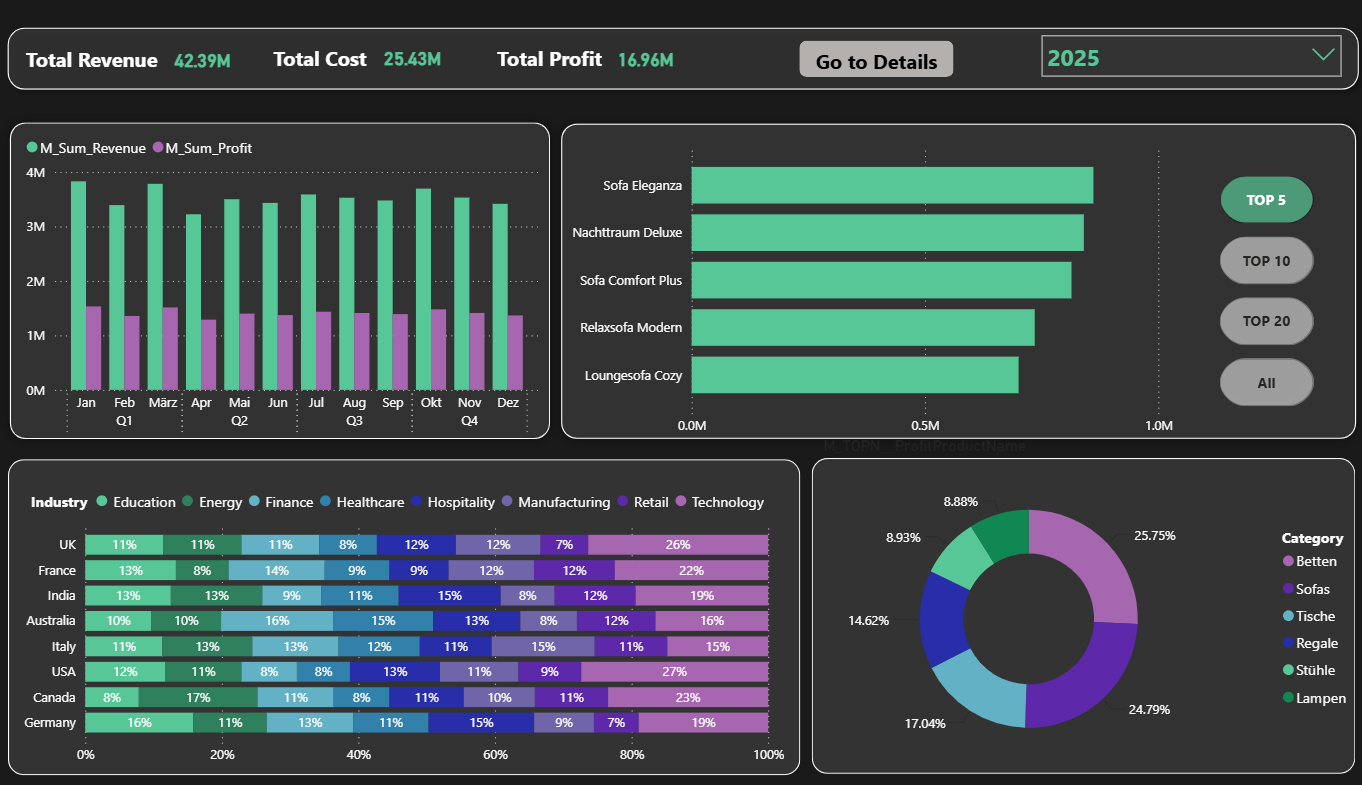

This screenshot's page, from the dashboard's own definition file:
{"tool":"powerbi","page":{"name":"Header","canvas":[1280,720],"ordinal":0},"visuals":[{"type":"shape","box":[9.1,411.5,739.9,295],"z":0},{"type":"shape","box":[1.4,87.1,524.3,315.7],"z":1000},{"type":"shape","box":[516.3,88.6,762.3,314.3],"z":2000},{"type":"shape","box":[759.5,411.4,507.6,294.9],"z":3000},{"type":"shape","box":[0,0,1279.8,75.9],"z":4000},{"type":"card","fields":{"Values":["ListOfMeasures.M_Sum_Cost"]},"box":[339.9,19.2,95,40.6],"z":5000},{"type":"card","fields":{"Values":["ListOfMeasures.M_Sum_Profit"]},"box":[546,16.5,117.2,47.2],"z":6000},{"type":"card","fields":{"Values":["ListOfMeasures.M_Sum_Revenue"]},"box":[138.2,22,106.7,36.7],"z":7000},{"type":"textbox","box":[252.7,20.1,122.5,40],"z":8000},{"type":"textbox","box":[21.5,20.5,140.5,37.2],"z":9000},{"type":"textbox","box":[461,20.1,122.5,40],"z":10000},{"type":"clusteredColumnChart","fields":{"Y":["ListOfMeasures.M_Sum_Revenue","ListOfMeasures.M_Sum_Profit"],"Category":["DimDate.HalfYearName Hierarchy.HalfYearName","DimDate.HalfYearName Hierarchy.QuarterName","DimDate.HalfYearName Hierarchy.MonthName"]},"box":[21.4,99.8,489,297.8],"z":11000},{"type":"clusteredBarChart","fields":{"Category":["DimProduct.ProductName"],"Y":["ListOfMeasures.M_TOPN__ProfitProductName"]},"box":[522.8,108.9,579.8,303.8],"z":12000},{"type":"hundredPercentStackedBarChart","fields":{"Category":["DimCustomers.Country"],"Y":["ListOfMeasures.M_Sum_Revenue"],"Series":["DimCustomers.Industry"]},"box":[12.1,431.2,727.8,275.4],"z":13000},{"type":"donutChart","fields":{"Category":["DimProduct.Category"],"Y":["ListOfMeasures.M_Sum_Profit"]},"box":[721.2,422,558.8,277.5],"z":14000},{"type":"slicer","fields":{"Values":["DimDate.Year_Date"]},"box":[963.8,6.3,300,55.7],"z":15000},{"type":"advancedSlicerVisual","fields":{"Values":["TopTBL.Value"]},"box":[1145.6,100,100,220.3],"z":16000},{"type":"actionButton","box":[748.1,21.5,144.3,34.2],"z":17000}]}

Visuals, with their boxes in screenshot pixels (x1, y1, x2, y2), scaled from the page's 1280x720 canvas onto the 1362x785 screenshot:
shape: BBox(10, 449, 797, 770)
shape: BBox(1, 95, 559, 439)
shape: BBox(549, 97, 1361, 439)
shape: BBox(808, 449, 1348, 770)
shape: BBox(0, 0, 1361, 83)
card - ListOfMeasures.M_Sum_Cost: BBox(362, 21, 463, 65)
card - ListOfMeasures.M_Sum_Profit: BBox(581, 18, 706, 69)
card - ListOfMeasures.M_Sum_Revenue: BBox(147, 24, 261, 64)
textbox: BBox(269, 22, 399, 66)
textbox: BBox(23, 22, 172, 63)
textbox: BBox(491, 22, 621, 66)
clusteredColumnChart - ListOfMeasures.M_Sum_Revenue x ListOfMeasures.M_Sum_Profit: BBox(23, 109, 543, 433)
clusteredBarChart - DimProduct.ProductName x ListOfMeasures.M_TOPN__ProfitProductName: BBox(556, 119, 1173, 450)
hundredPercentStackedBarChart - DimCustomers.Country x ListOfMeasures.M_Sum_Revenue: BBox(13, 470, 787, 770)
donutChart - DimProduct.Category x ListOfMeasures.M_Sum_Profit: BBox(767, 460, 1361, 763)
slicer - DimDate.Year_Date: BBox(1026, 7, 1345, 68)
advancedSlicerVisual - TopTBL.Value: BBox(1219, 109, 1325, 349)
actionButton: BBox(796, 23, 950, 61)
